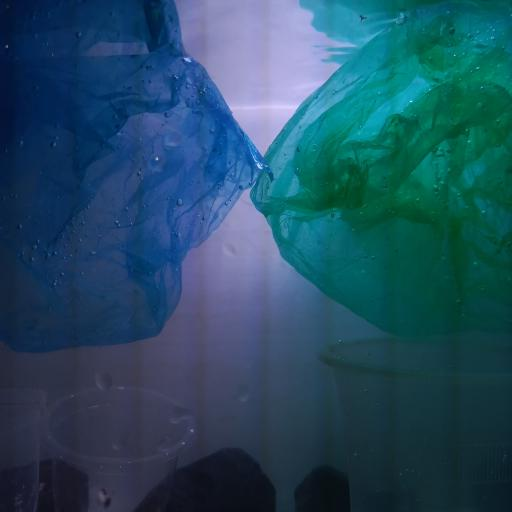plastic_bag: (0, 1, 263, 357), (249, 11, 512, 341)
plastic_cup: (314, 334, 512, 512), (38, 383, 197, 512), (0, 386, 47, 512)
